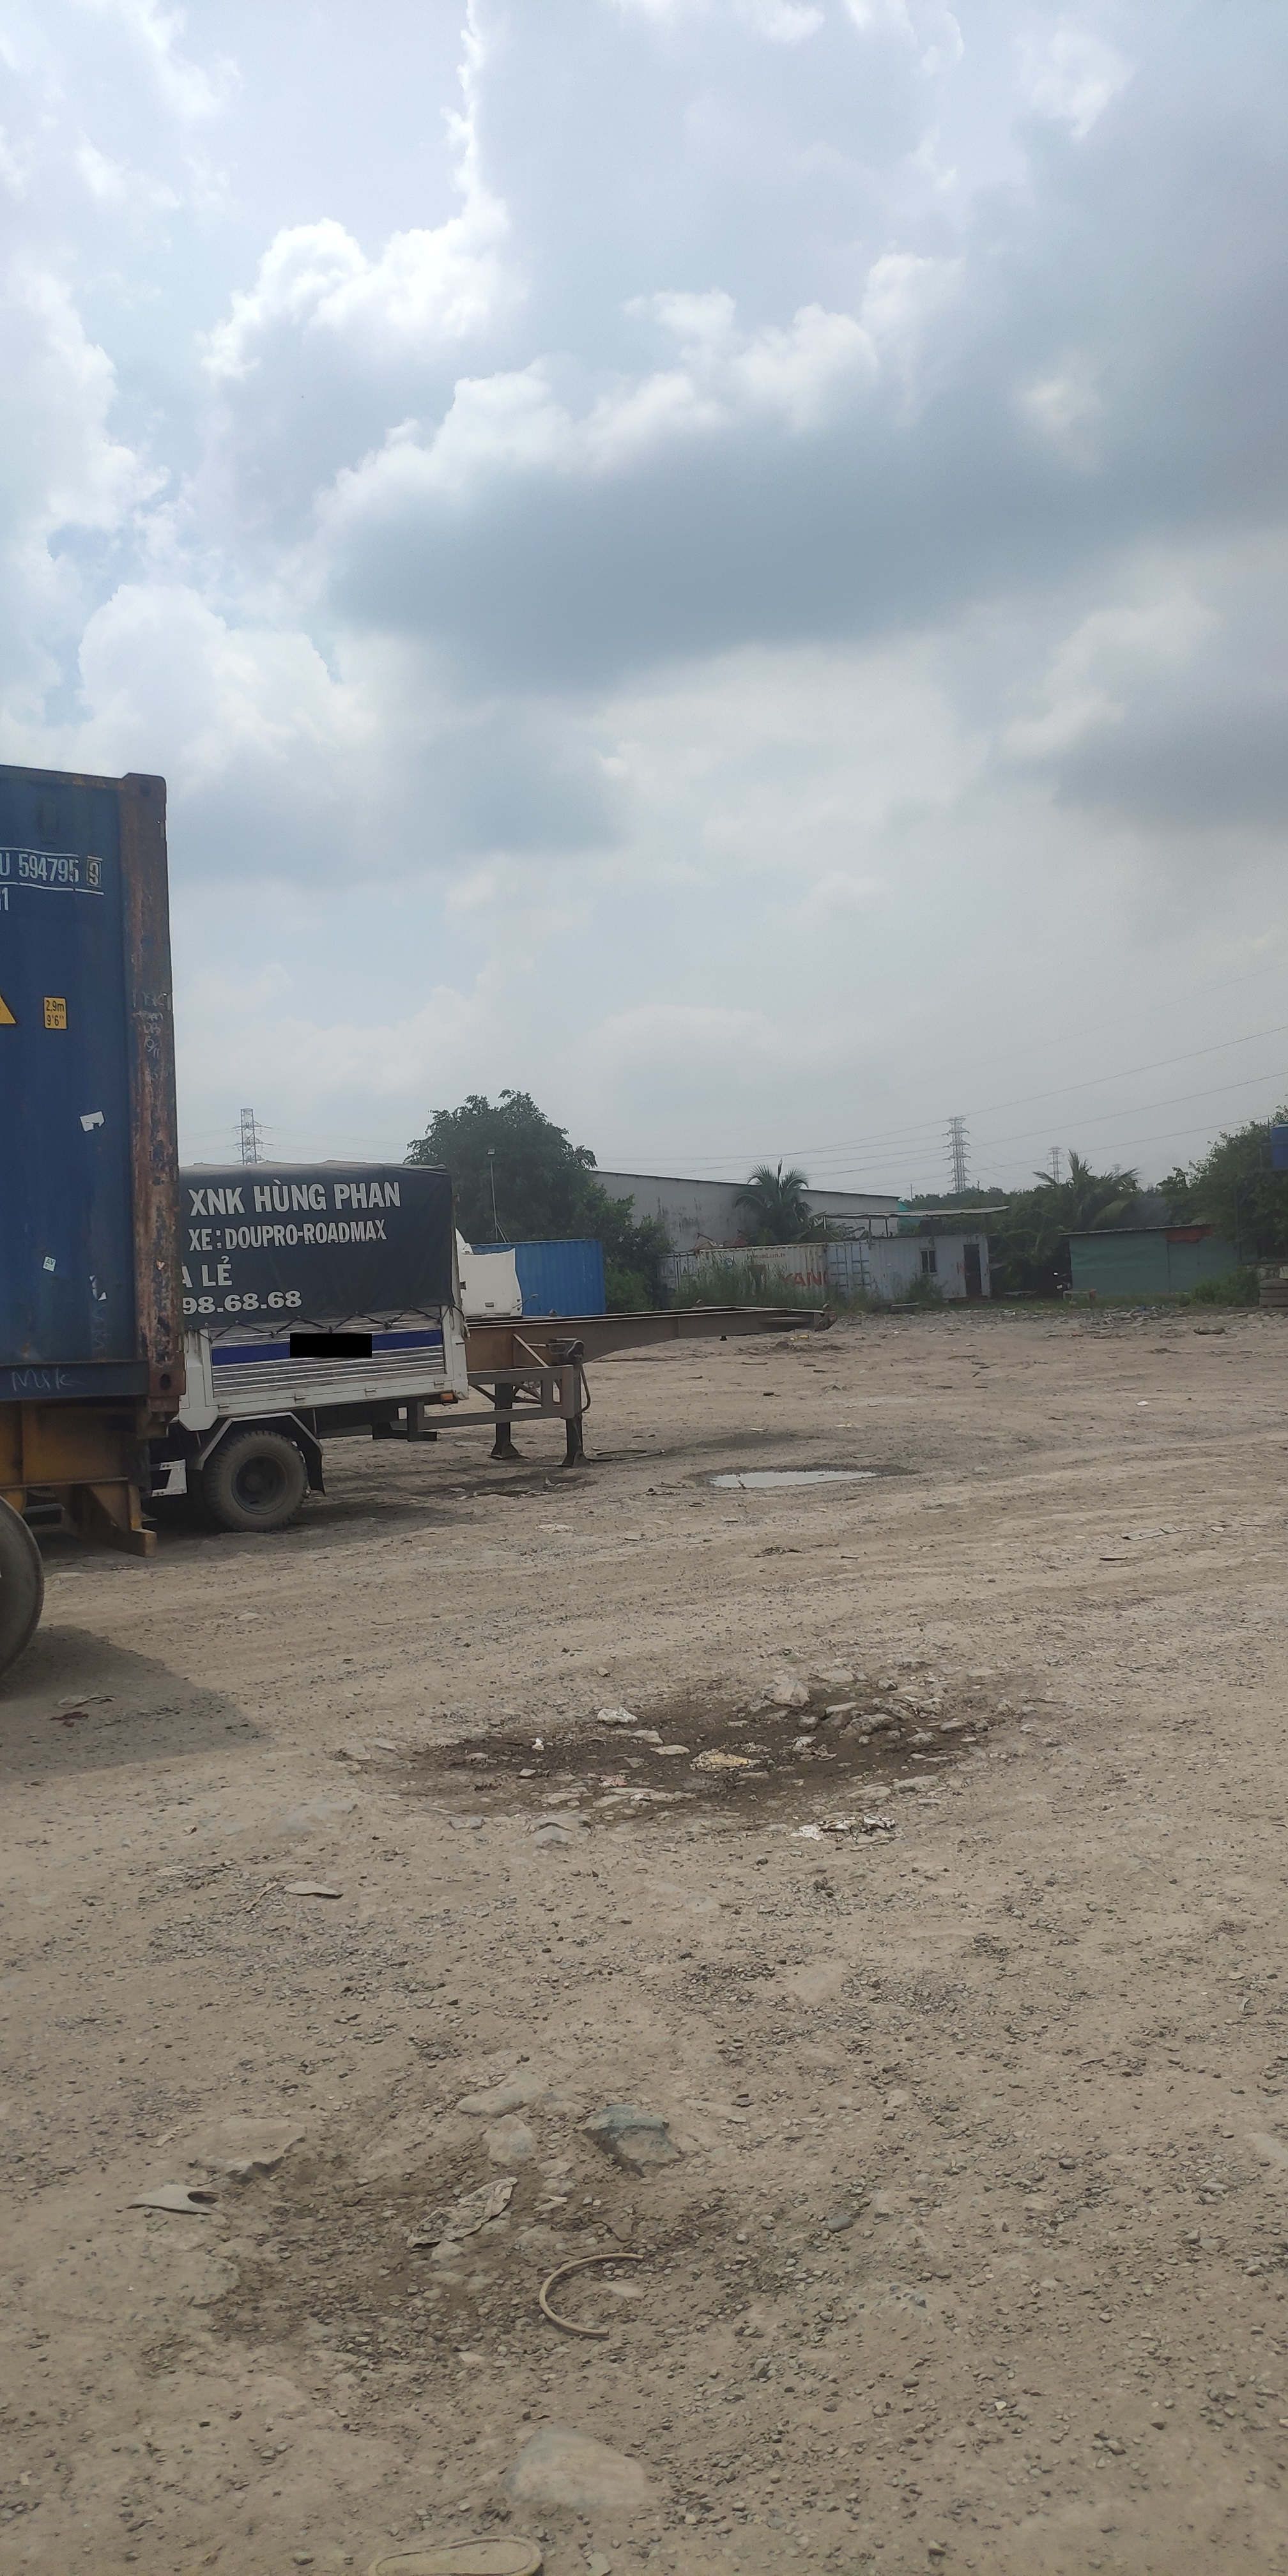hole: (177, 2036, 711, 2422), (350, 1656, 1028, 1840), (680, 1457, 897, 1493)
